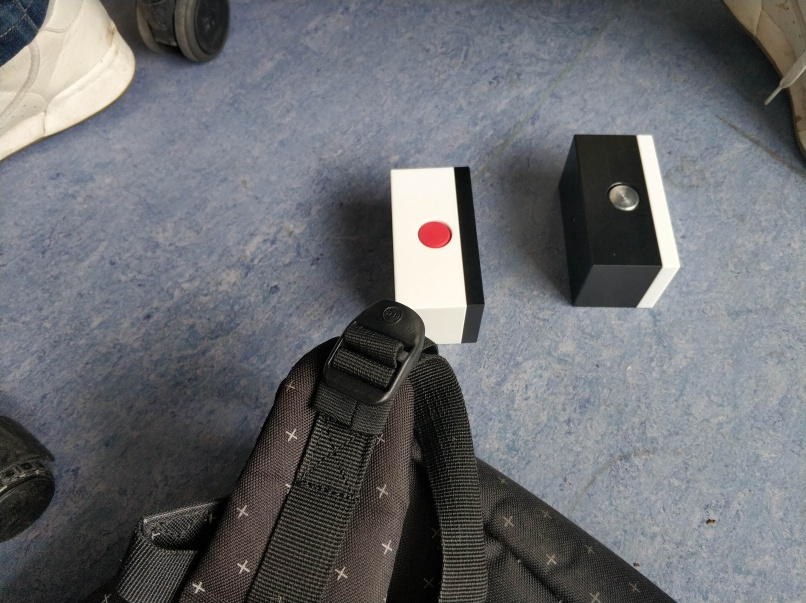black+white+red: (386, 165, 487, 346)
white+black+silver: (556, 131, 685, 312)
